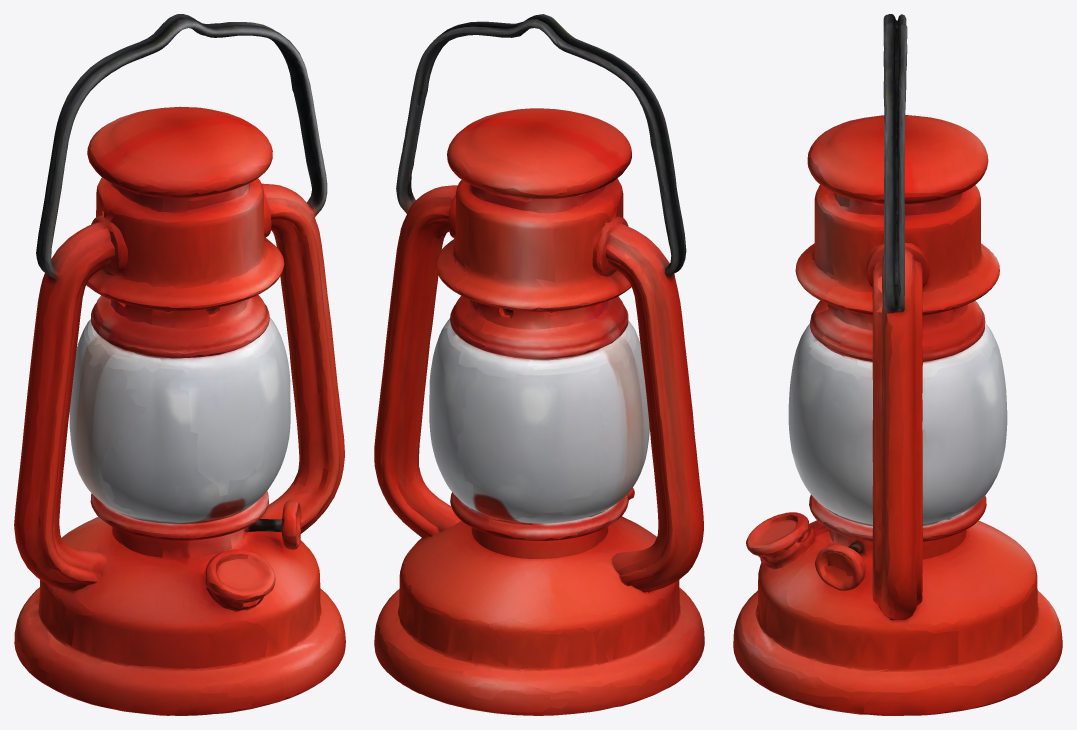
Rendered from lantern.glb.
The picture shows the model from 3 angles, left to right: view 1: azimuth 30°, elevation 25°; view 2: azimuth 150°, elevation 25°; view 3: azimuth 270°, elevation 25°; orthographic projection.
Parts seen in each view (by area): view 1: geometry_0; view 2: geometry_0; view 3: geometry_0.
Part boxes in pixels (<box>): geometry_0: <box>14,14,345,715</box>; geometry_0: <box>374,14,704,715</box>; geometry_0: <box>733,14,1062,715</box>.
Bounding box in the file's own units: 0.1504 × 0.28 × 0.1334.
Materials: 1 (1 with a texture image).
